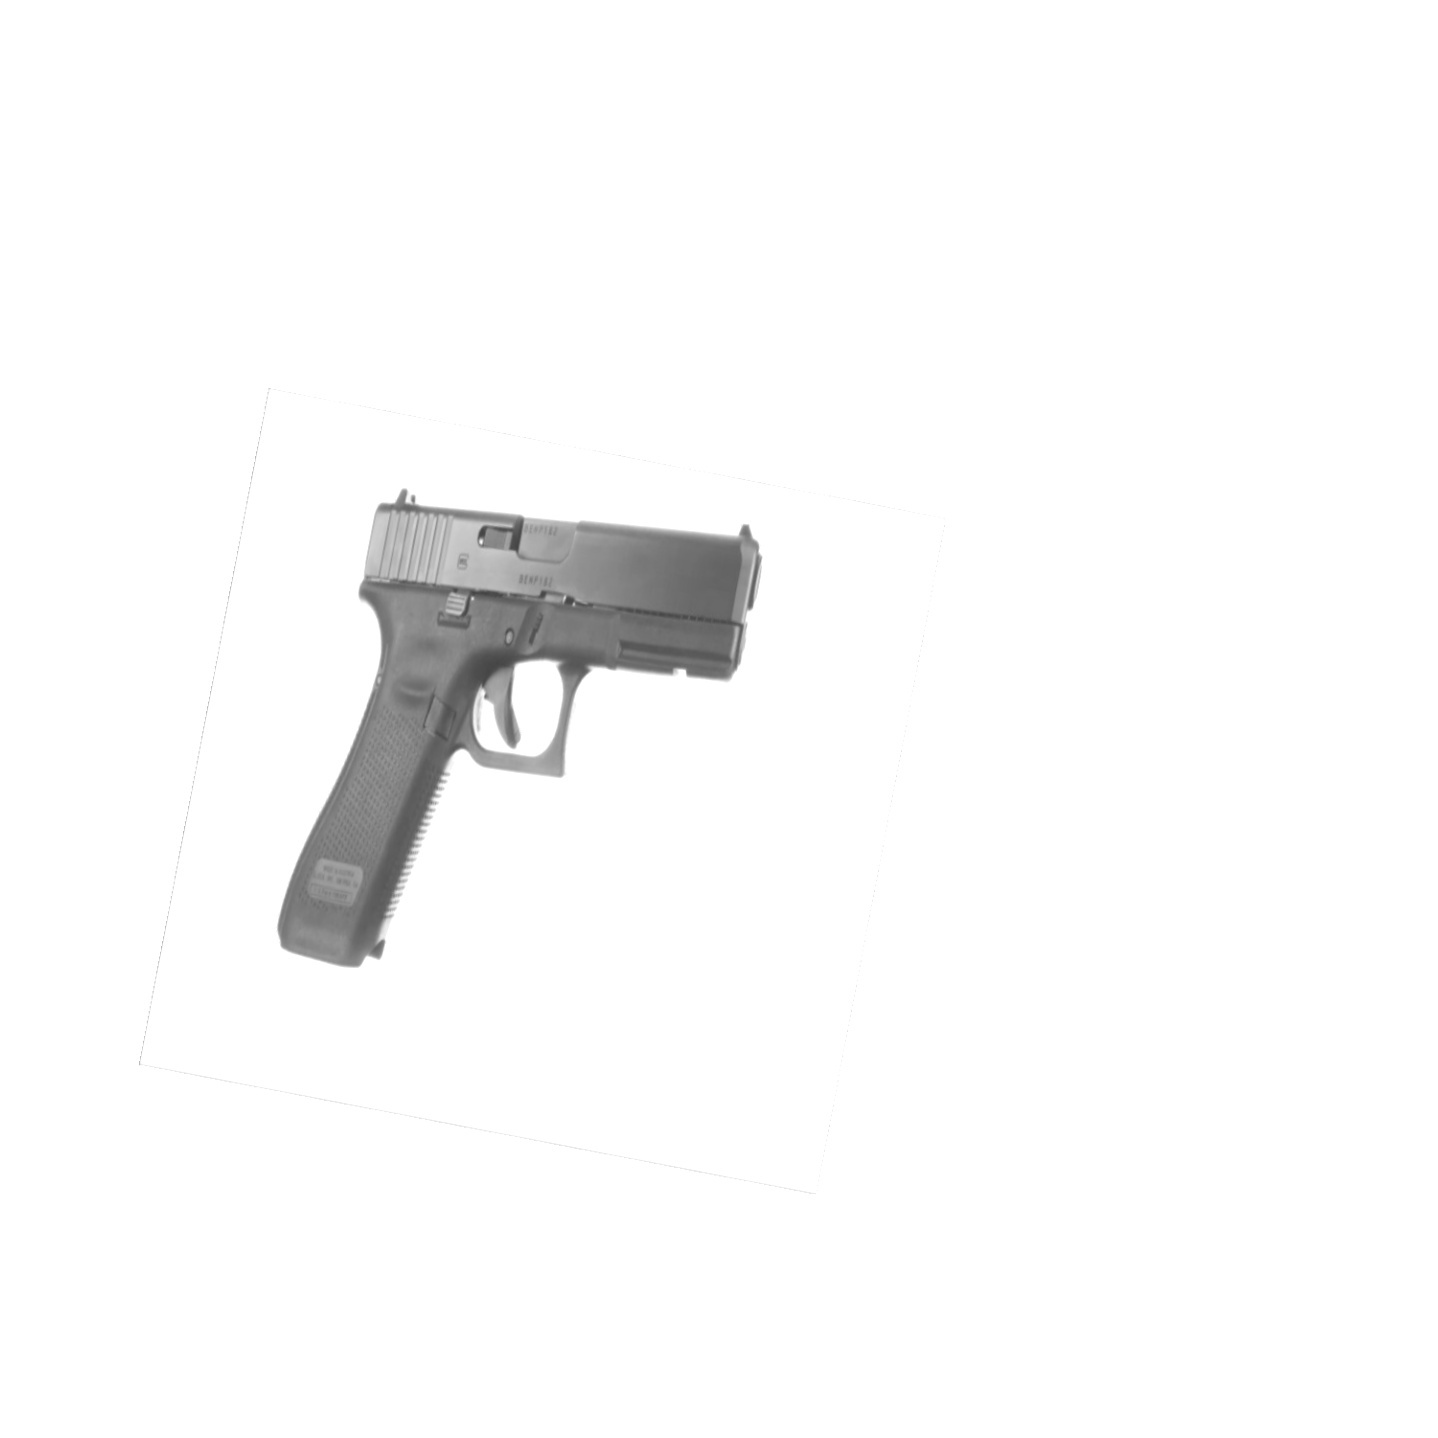gun: (277, 487, 762, 967)
